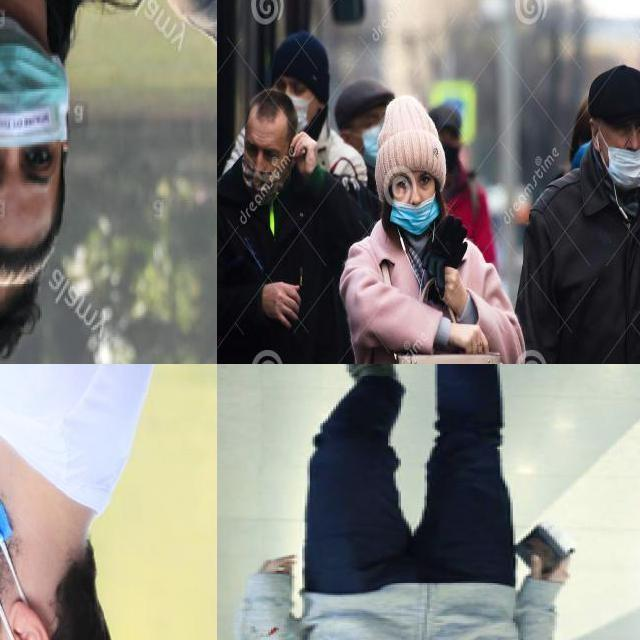hairnet: (369, 168, 468, 247), (573, 110, 640, 209), (239, 151, 293, 210)
mask: (0, 7, 79, 152)
no_apron: (262, 278, 306, 336), (451, 314, 490, 358), (290, 130, 320, 176)
